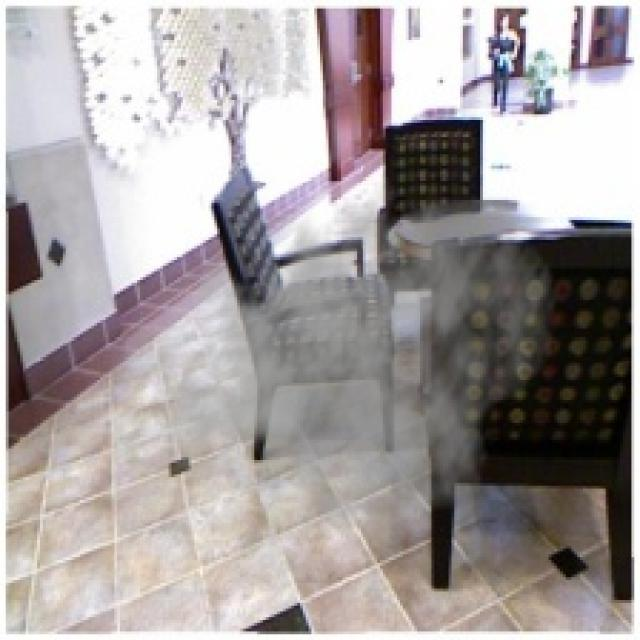smoke: (166, 157, 560, 552)
